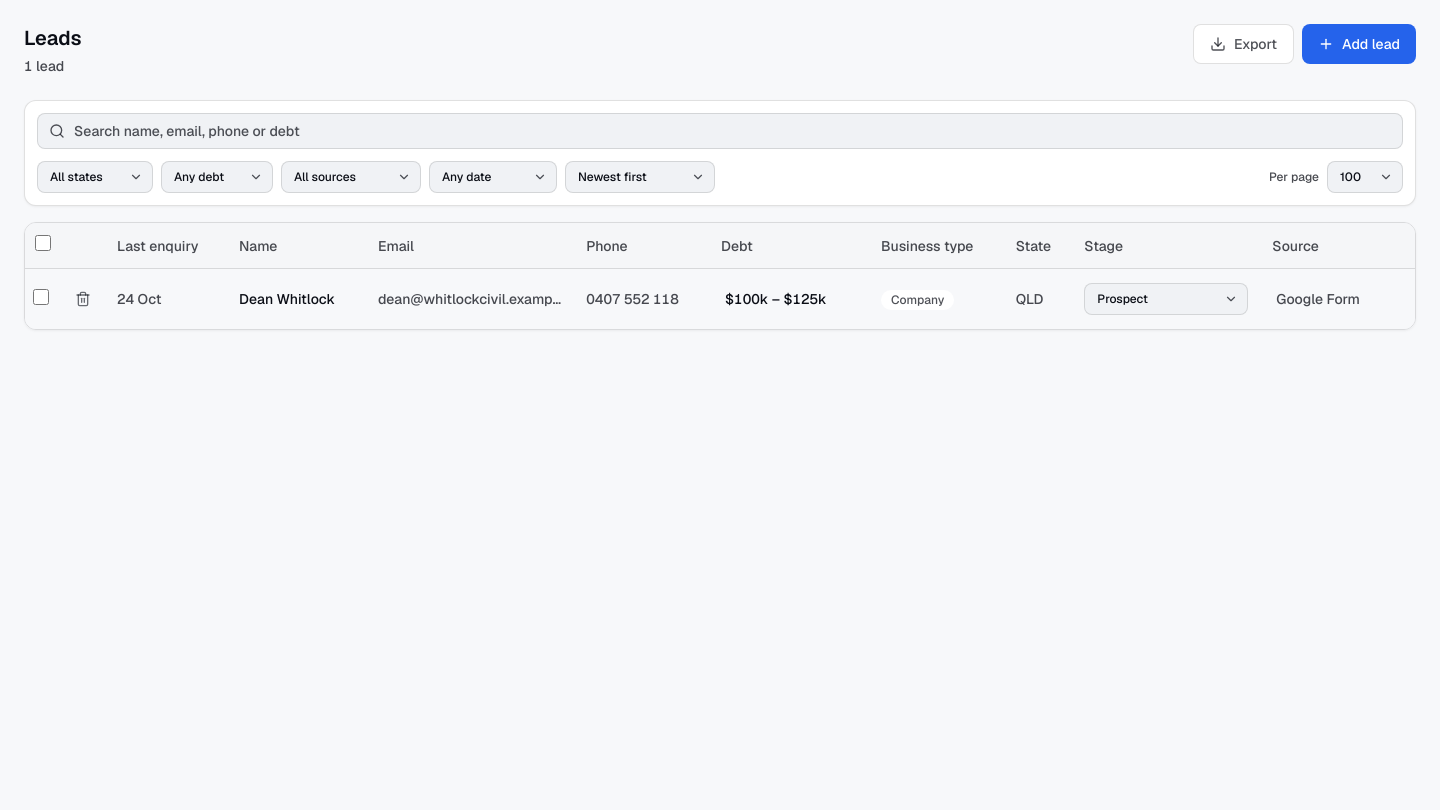
Test: ConvertToClientDialog › offers Company and Trust, and shows the Trust section for both — optional for a company
Select "Client" in the dropdown named "Stage for Dean Whitlock": (1166, 299) x1=1084 y1=283 x2=1248 y2=315
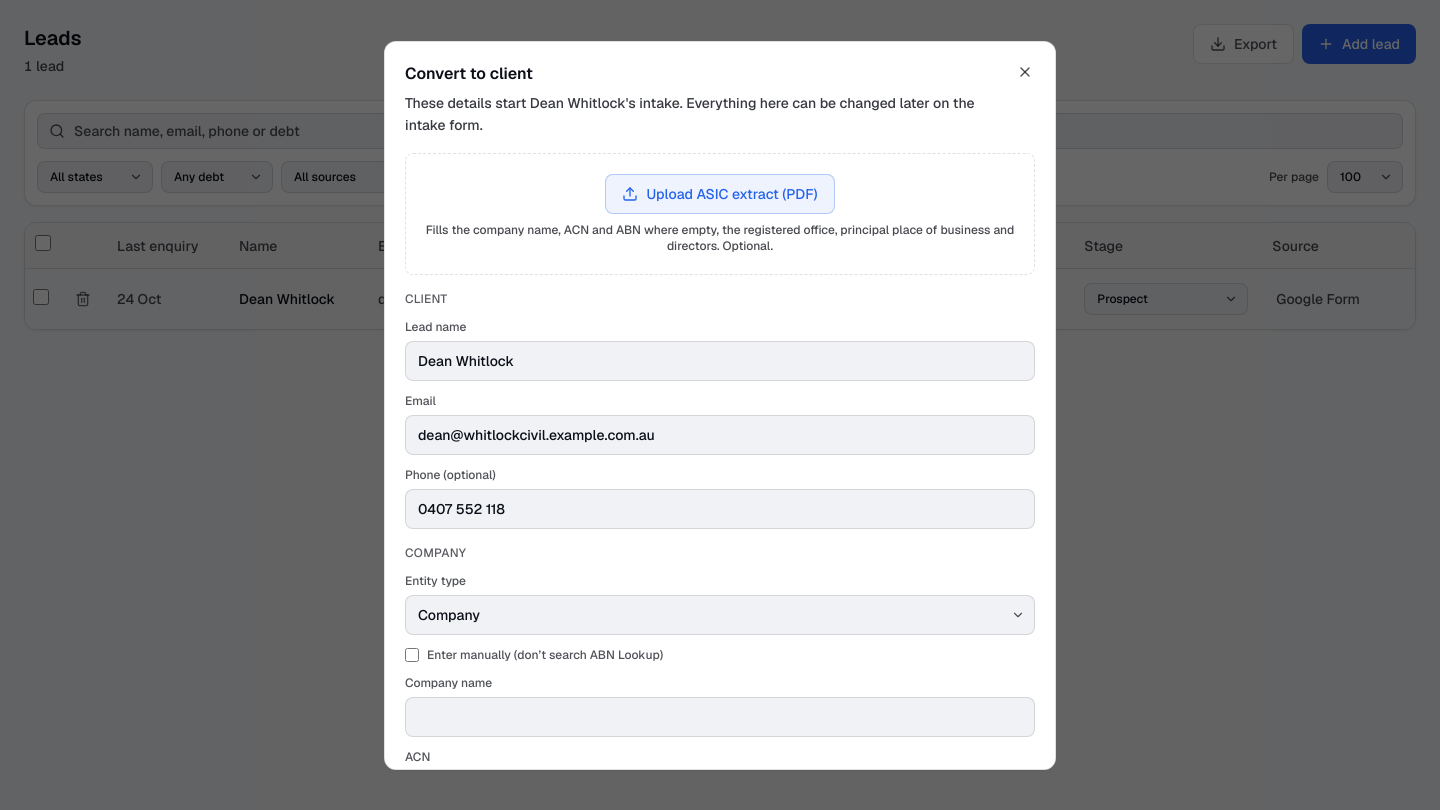
Select "Trust" in the dropdown labelled "Entity type": (720, 615) x1=405 y1=595 x2=1035 y2=635
(page scrolled)
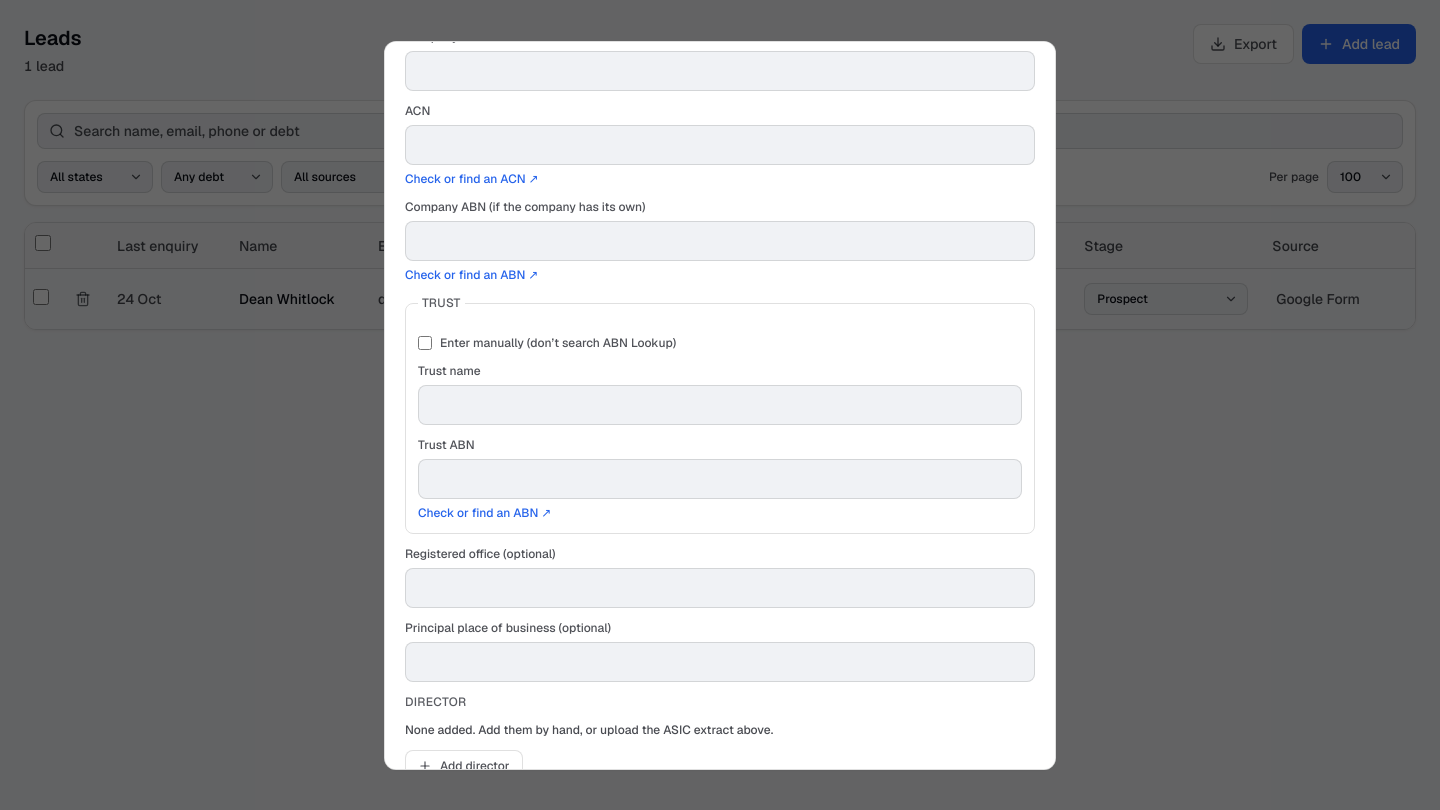
Check: the field labelled "Trust name" is shown, box x1=418 y1=385 x2=1022 y2=425
